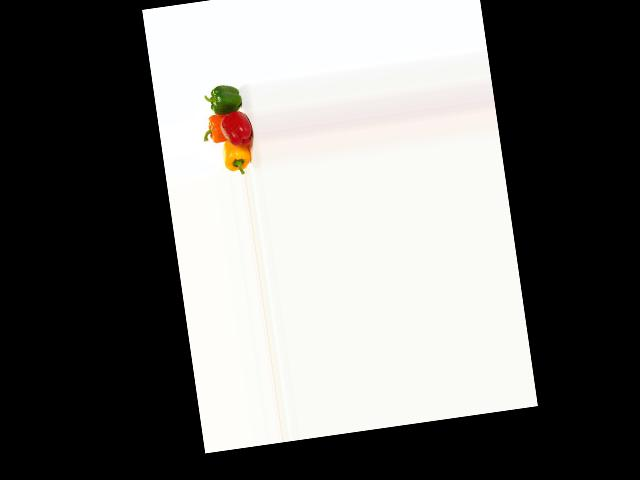bell_pepper: (205, 82, 248, 118)
